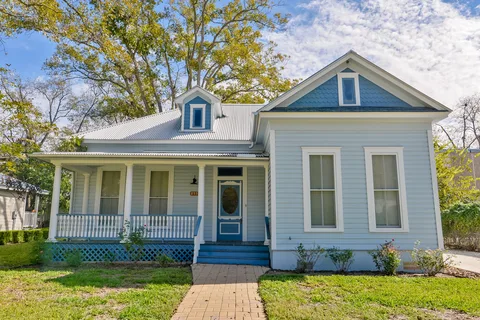private_hause: (68, 76, 439, 270)
